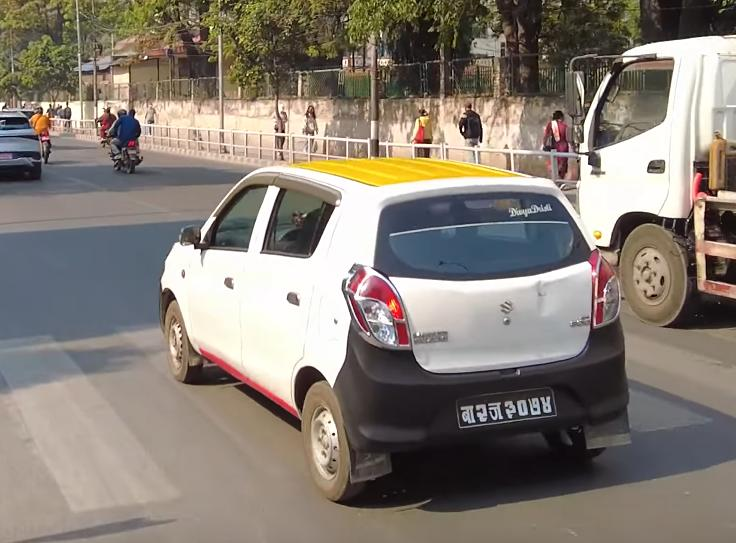bike: (106, 125, 148, 175)
car: (0, 110, 45, 185)
taxi: (156, 144, 644, 504)
